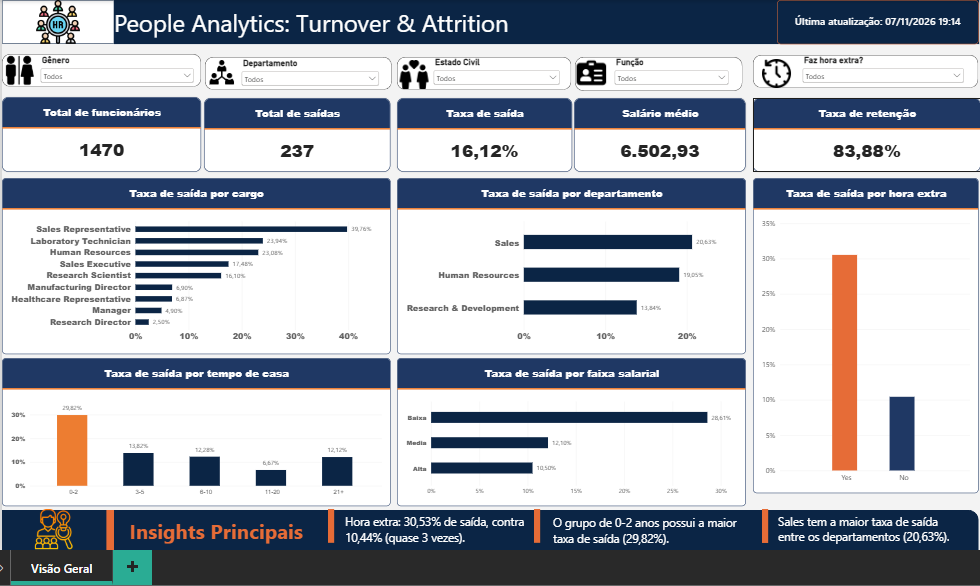

What the dashboard file says about the page in this screenshot:
{"tool":"powerbi","page":{"name":"Visão Geral","canvas":[1920,1080],"ordinal":0},"visuals":[{"type":"shape","box":[0,0,220.4,86],"z":0},{"type":"shape","box":[0,1000.7,1917.6,79.3],"z":1000},{"type":"shape","box":[0,106.7,391.1,64.4],"z":2000},{"type":"card","title":"Total de funcionários","fields":{"Values":["employees_clean.Total de funcionários"]},"box":[0,191.1,391.1,146.7],"z":3000},{"type":"card","title":"Total de saídas","fields":{"Values":["employees_clean.Total Saidas"]},"box":[396.7,191.8,365.9,145.5],"z":4000},{"type":"card","title":"Taxa de saída","fields":{"Values":["employees_clean.Taxa Attrition"]},"box":[775.8,191.8,343.8,145.5],"z":5000},{"type":"card","title":"Salário médio","fields":{"Values":["employees_clean.Salario Medio"]},"box":[1124.1,191.8,337.2,145.5],"z":6000},{"type":"barChart","title":"Taxa de saída por departamento","fields":{"Category":["employees_clean.Department"],"Y":["employees_clean.Taxa Attrition"]},"box":[775.8,350.4,685.5,346],"z":7000},{"type":"columnChart","title":"Taxa de saída por tempo de casa","fields":{"Category":["employees_clean.FaixaTempoCasa"],"Y":["employees_clean.Taxa de saída"]},"box":[0,703.1,762.6,290.9],"z":8000},{"type":"barChart","title":"Taxa de saída por faixa salarial","fields":{"Category":["employees_clean.FaixaSalarial"],"Y":["employees_clean.Taxa Attrition"]},"box":[775.8,703.1,685.5,290.9],"z":9000},{"type":"card","title":"Taxa de retenção","fields":{"Values":["employees_clean.Taxa de retenção"]},"box":[1474.5,191.8,447.4,145.5],"z":10000},{"type":"lineClusteredColumnComboChart","title":"Taxa de saída por hora extra","fields":{"Category":["employees_clean.OverTime"],"Y":["employees_clean.Taxa de saída"]},"box":[1474.5,350.4,443,619.3],"z":11000},{"type":"shape","box":[220.9,0,1698.8,86.5],"z":12000},{"type":"image","box":[0,104.4,70,68.3],"z":13000},{"type":"slicer","fields":{"Values":["employees_clean.Gender"]},"box":[71.1,108.9,311.1,64.4],"z":14000},{"type":"shape","box":[397.8,111.1,366.7,64.4],"z":15000},{"type":"image","box":[397.8,117.8,66.7,48.3],"z":16000},{"type":"slicer","fields":{"Values":["employees_clean.Department"]},"box":[464.4,113.3,280,64.4],"z":17000},{"type":"shape","box":[775.6,111.1,342.2,64.4],"z":18000},{"type":"image","box":[775.6,117.8,66.7,56.7],"z":19000},{"type":"slicer","fields":{"Values":["employees_clean.MaritalStatus"]},"box":[842.2,111.1,257.8,64.4],"z":20000},{"type":"shape","box":[1124.4,111.1,328.9,66.7],"z":21000},{"type":"image","box":[1117.8,113.3,80,58.3],"z":22000},{"type":"slicer","fields":{"Values":["employees_clean.JobRole"]},"box":[1197.8,111.1,233.7,64.4],"z":23000},{"type":"shape","box":[1475.6,108.9,442.2,64.4],"z":24000},{"type":"image","box":[1493.3,115.6,56.7,56.7],"z":25000},{"type":"slicer","fields":{"Values":["employees_clean.OverTime"]},"box":[1566.7,108.9,326.7,64.4],"z":26000},{"type":"shape","box":[640.5,1000,12,66],"z":27000},{"type":"shape","box":[1045.2,1000,12,66],"z":28000},{"type":"shape","box":[1492.9,1000,12,66.7],"z":29000},{"type":"shape","box":[0,1000.7,220.4,79.3],"z":30000},{"type":"image","box":[0,0,220.4,86],"z":31000},{"type":"shape","box":[0,1000.7,205,79.3],"z":32000},{"type":"image","box":[0,1000,202.6,78.9],"z":33000},{"type":"shape","box":[220.4,1000.7,401.1,79.3],"z":34000},{"type":"shape","box":[1082.2,1007.3,370.3,68.3],"z":37000},{"type":"clusteredBarChart","title":"Taxa de saída por cargo","fields":{"Category":["employees_clean.JobRole"],"Y":["employees_clean.Taxa de saída"]},"box":[0,350.4,762.6,346],"z":38000},{"type":"shape","box":[1523,1000.7,370.3,74.9],"z":39000},{"type":"card","fields":{"Values":["employees_clean.Última atualização"]},"box":[1522.2,0,395.6,86.7],"z":40000},{"type":"shape","box":[674.4,1005.1,370.3,68.3],"z":40001}]}

Visuals, with their boxes in screenshot pixels (x1, y1, x2, y2):
shape: <region>8, 3, 119, 46</region>
shape: <region>8, 506, 973, 546</region>
shape: <region>8, 56, 205, 89</region>
"Total de funcionários" card: <region>8, 99, 205, 173</region>
"Total de saídas" card: <region>207, 99, 392, 172</region>
"Taxa de saída" card: <region>398, 99, 571, 172</region>
"Salário médio" card: <region>573, 99, 743, 172</region>
"Taxa de saída por departamento" barChart: <region>398, 179, 743, 353</region>
"Taxa de saída por tempo de casa" columnChart: <region>8, 356, 392, 503</region>
"Taxa de saída por faixa salarial" barChart: <region>398, 356, 743, 503</region>
"Taxa de retenção" card: <region>750, 99, 975, 172</region>
"Taxa de saída por hora extra" lineClusteredColumnComboChart: <region>750, 179, 973, 491</region>
shape: <region>119, 3, 974, 46</region>
image: <region>8, 55, 43, 89</region>
slicer - employees_clean.Gender: <region>43, 57, 200, 90</region>
shape: <region>208, 58, 392, 91</region>
image: <region>208, 62, 241, 86</region>
slicer - employees_clean.Department: <region>241, 60, 382, 92</region>
shape: <region>398, 58, 570, 91</region>
image: <region>398, 62, 432, 90</region>
slicer - employees_clean.MaritalStatus: <region>432, 58, 561, 91</region>
shape: <region>574, 58, 739, 92</region>
image: <region>570, 60, 611, 89</region>
slicer - employees_clean.JobRole: <region>611, 58, 728, 91</region>
shape: <region>750, 57, 973, 90</region>
image: <region>759, 61, 788, 89</region>
slicer - employees_clean.OverTime: <region>796, 57, 961, 90</region>
shape: <region>330, 506, 336, 539</region>
shape: <region>534, 506, 540, 539</region>
shape: <region>759, 506, 765, 539</region>
shape: <region>8, 506, 119, 546</region>
image: <region>8, 3, 119, 46</region>
shape: <region>8, 506, 111, 546</region>
image: <region>8, 506, 110, 546</region>
shape: <region>119, 506, 320, 546</region>
shape: <region>552, 510, 739, 544</region>
"Taxa de saída por cargo" clusteredBarChart: <region>8, 179, 392, 353</region>
shape: <region>774, 506, 961, 544</region>
card - employees_clean.Última atualização: <region>774, 3, 973, 46</region>
shape: <region>347, 508, 534, 543</region>
